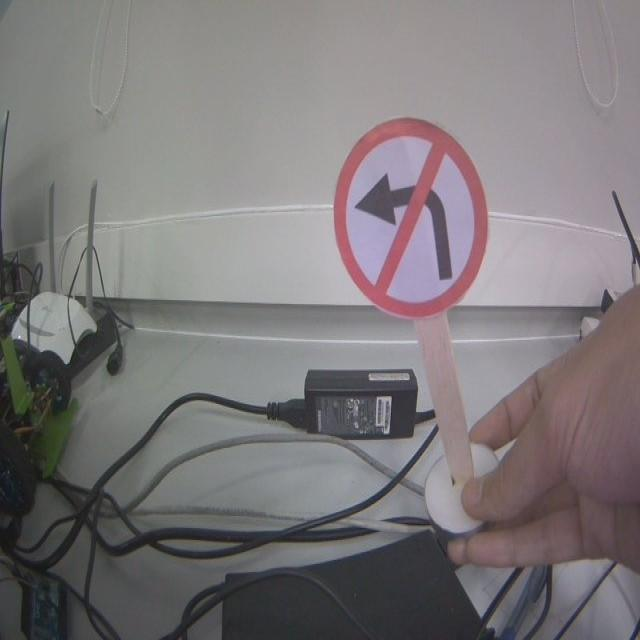Dilarang Belok Kiri: (335, 120, 485, 316)
